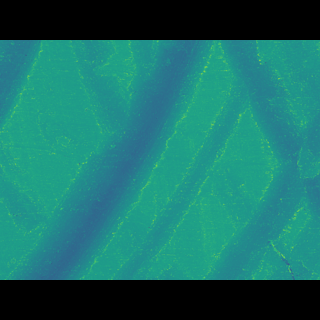Loch: (5, 69, 219, 250), (108, 100, 259, 250), (219, 69, 320, 205)
